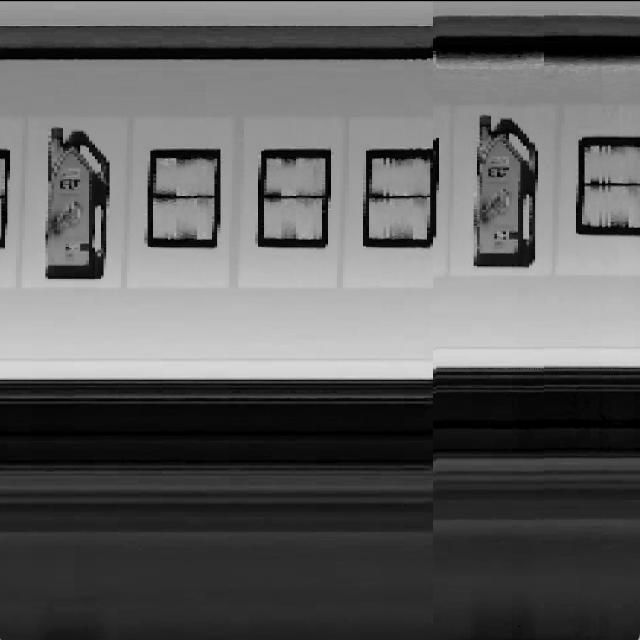air_filter: (361, 128, 444, 255), (253, 140, 335, 254), (144, 144, 222, 253)
motor_oil: (41, 123, 116, 285), (468, 109, 542, 273)
